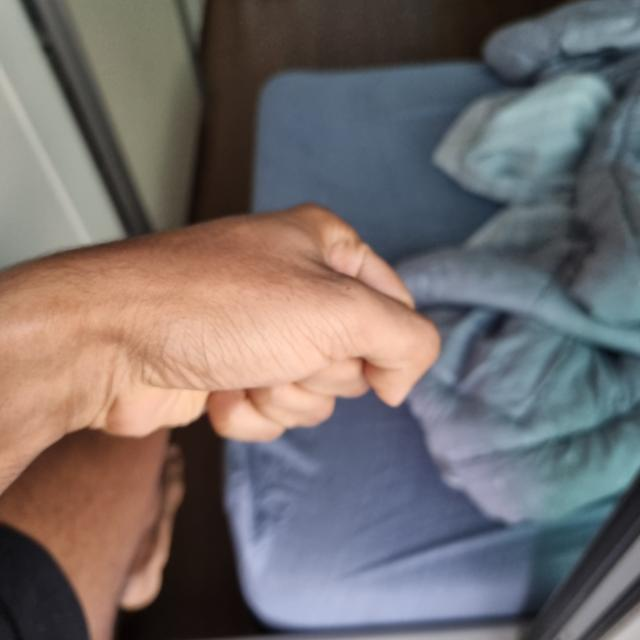Rock: (65, 207, 439, 443)
